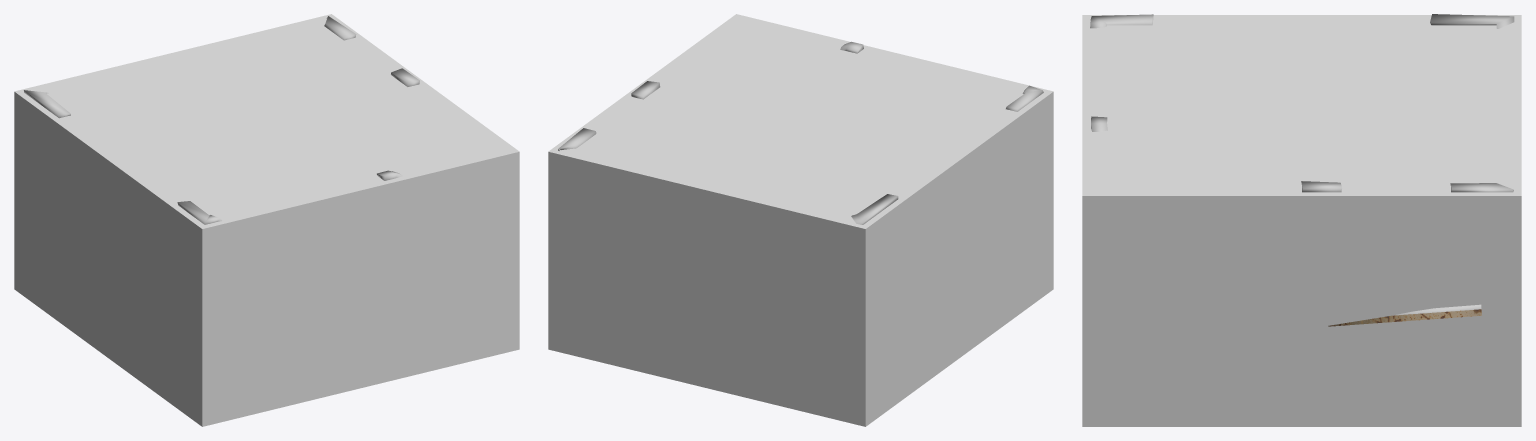
The model's file is House-Type01.fbx.
3 renders of one model, left to right at view 1: azimuth 30°, elevation 25°; view 2: azimuth 150°, elevation 25°; view 3: azimuth 270°, elevation 25°, orthographic. The views are drawn at different scales.
Parts seen in each view (by area): view 1: House-Type01_col, snow; view 2: House-Type01_col, snow; view 3: House-Type01_col, snow, House-Type01.
Boxes of the visible parts, bbox=[...] form: House-Type01_col: bbox=[14, 14, 519, 426]; snow: bbox=[24, 16, 419, 224]; House-Type01_col: bbox=[548, 14, 1053, 426]; snow: bbox=[558, 41, 1043, 224]; House-Type01_col: bbox=[1082, 15, 1521, 426]; snow: bbox=[1090, 14, 1514, 315]; House-Type01: bbox=[1328, 309, 1481, 326].
Bounding box in the file's own units: 218 × 139 × 220.
